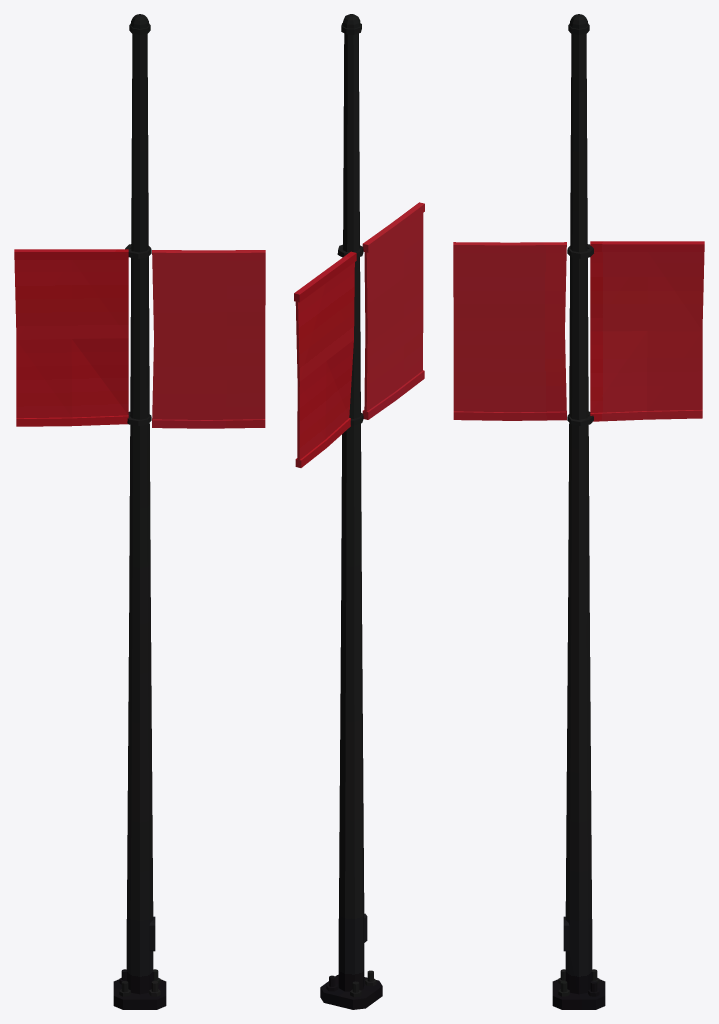
File: LightPole02.fbx
The picture shows the model from 3 angles, left to right: view 1: azimuth 90°, elevation 25°; view 2: azimuth 150°, elevation 25°; view 3: azimuth 270°, elevation 25°; orthographic projection.
Parts seen in each view (by area): view 1: SM_City_LightPole_01c.mo; view 2: SM_City_LightPole_01c.mo; view 3: SM_City_LightPole_01c.mo.
Part boxes in pixels (bbox=[...]): SM_City_LightPole_01c.mo: bbox=[14, 14, 265, 1009]; SM_City_LightPole_01c.mo: bbox=[294, 14, 424, 1009]; SM_City_LightPole_01c.mo: bbox=[453, 14, 704, 1009].
Bounding box in the file's own units: 39.79 × 824 × 191.
